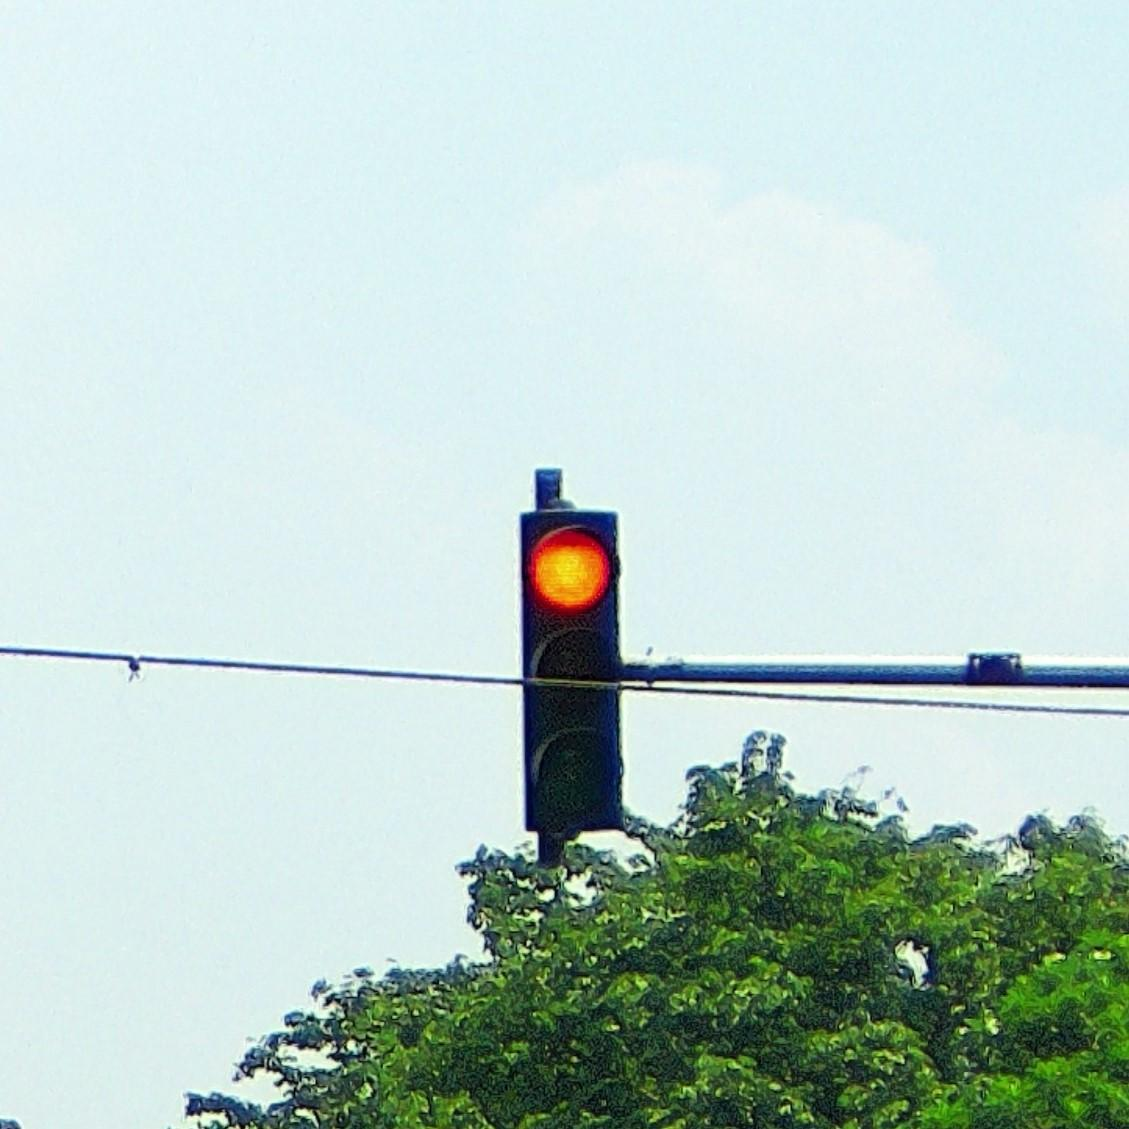red_light: (518, 511, 627, 829)
